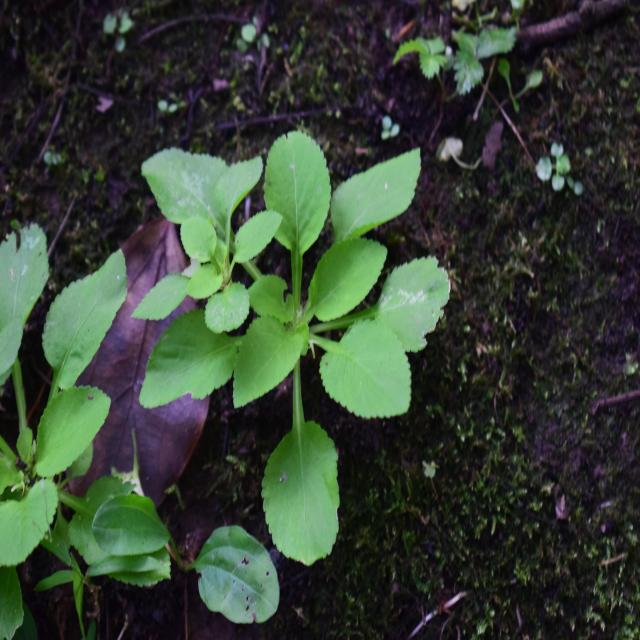Viola: (167, 114, 424, 539)
